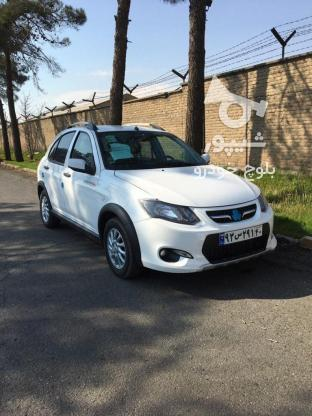car: (219, 224, 262, 247)
